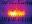Hotspot: (6, 7, 26, 19)
